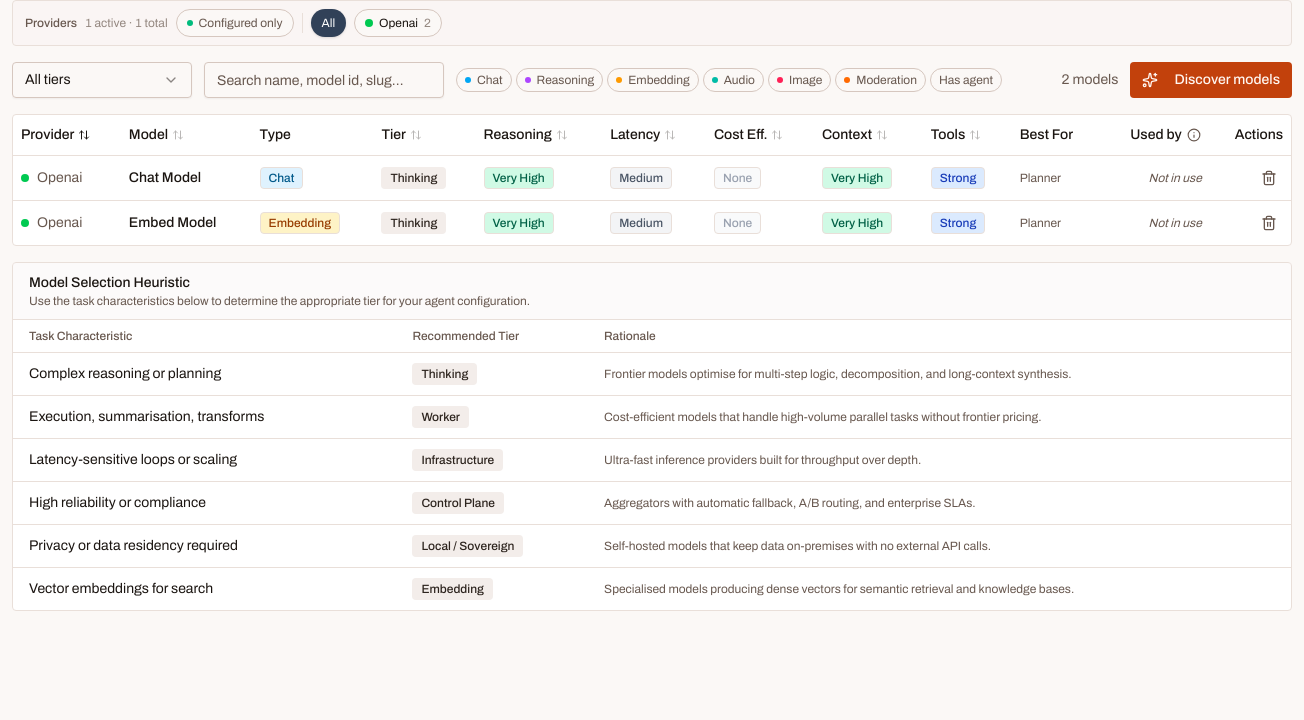
it: ProviderModelsMatrix › filtering by capability chip shows only matching models
Click the button "Embedding" at (653, 80), box [607,68,699,92]
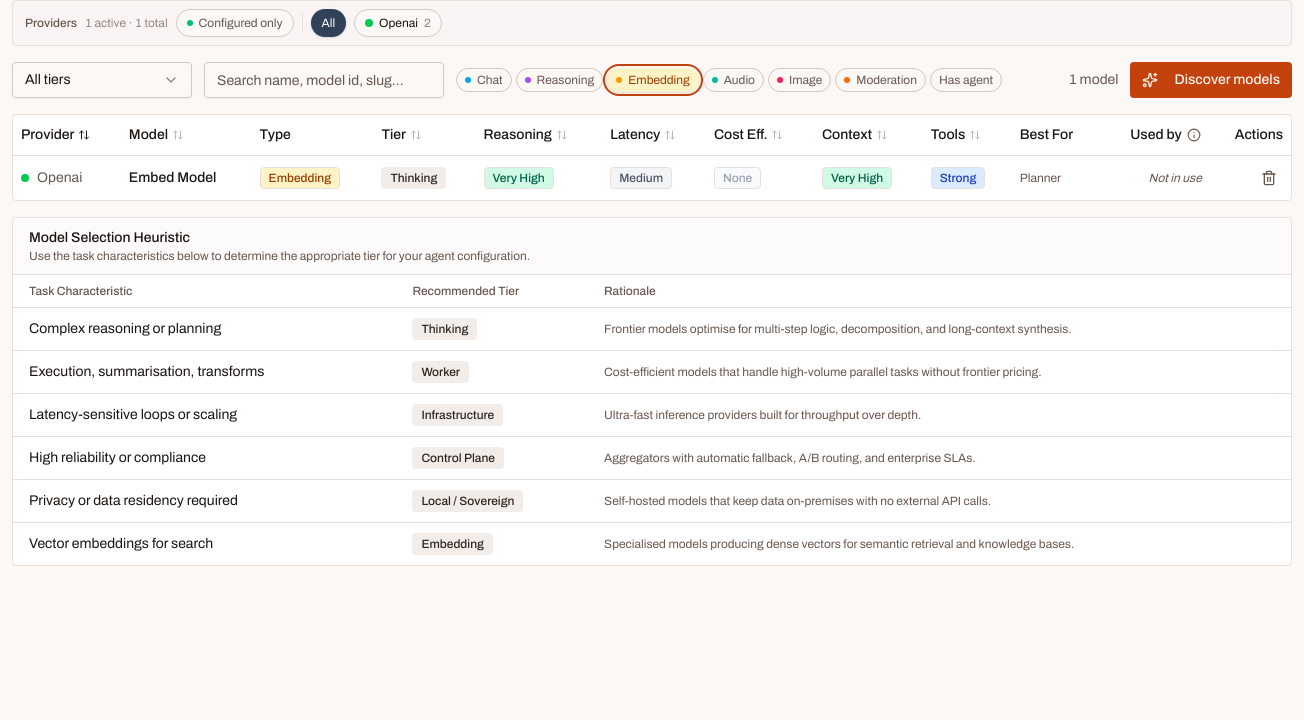
Expected: the link "Embed Model" is shown, [129,170,216,184]
Now the link "Chat Model" is gone
